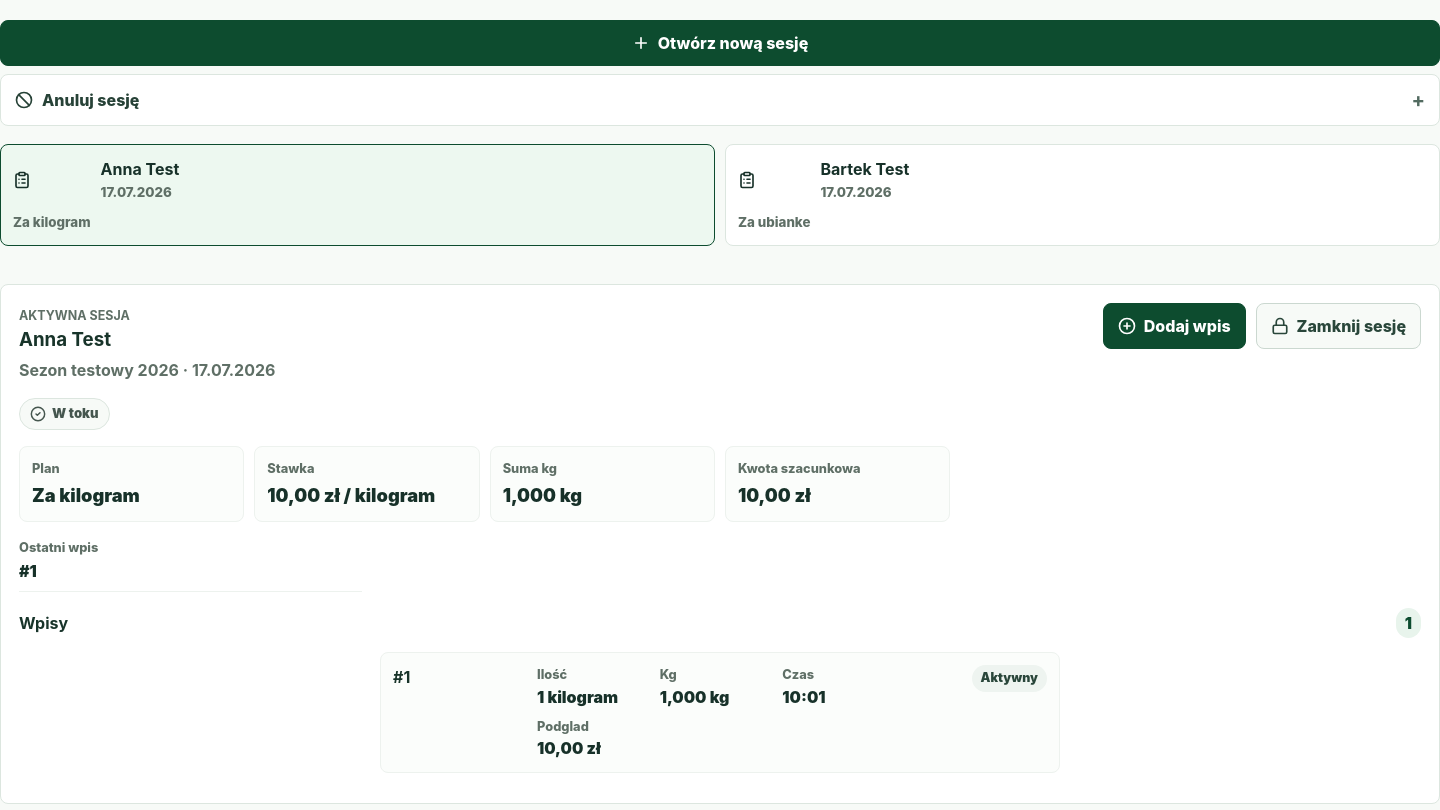
it: OperatorHarvestSessionsPanel › shows duplicate same-day session warning before opening another session
Click the button "Otwórz nową sesję" at (720, 43), box [0,20,1439,66]
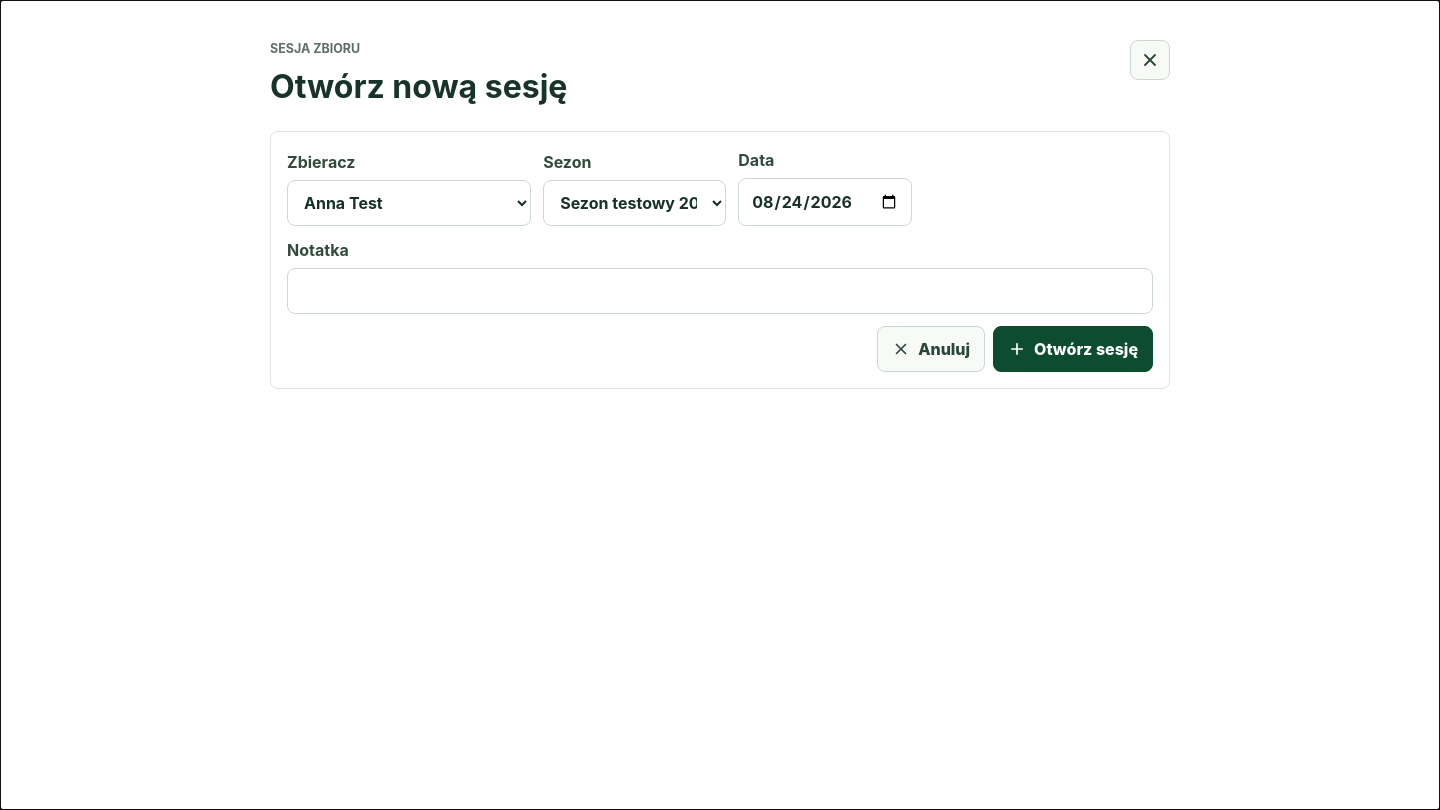
Now the date field labelled "Data" is enabled
Type "2026-07-17" into the date field labelled "Data" at (825, 202), box [738,178,912,226]
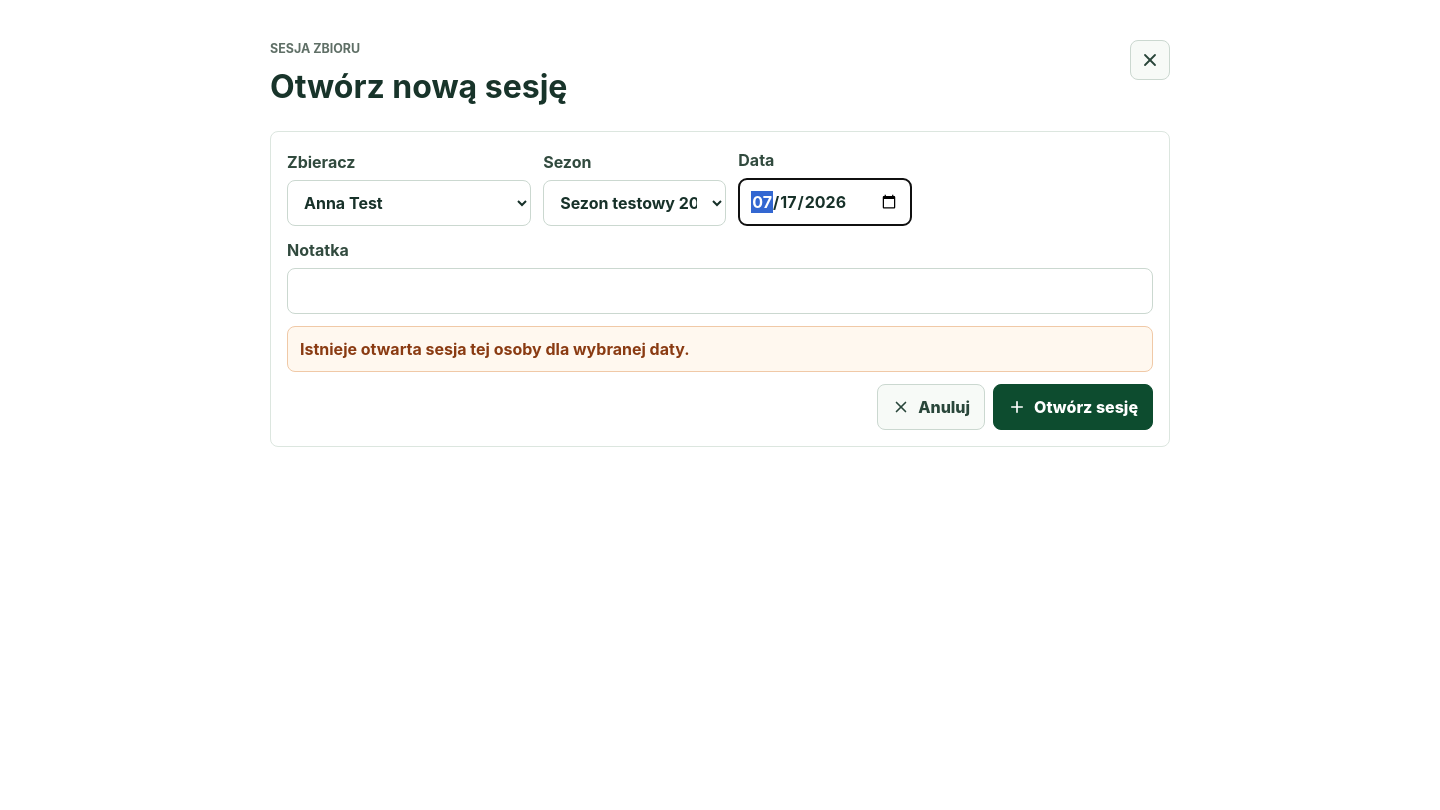
Now the text "Istnieje otwarta sesja tej osoby dla wybranej daty." is shown, box [287,326,1153,372]
